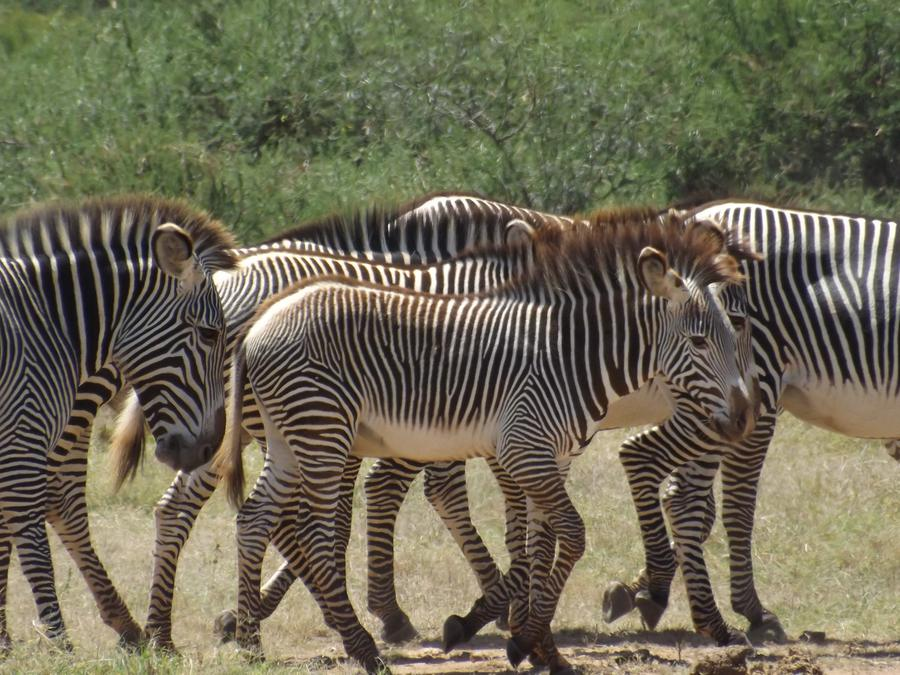zebra_grevys: (235, 268, 568, 457)
